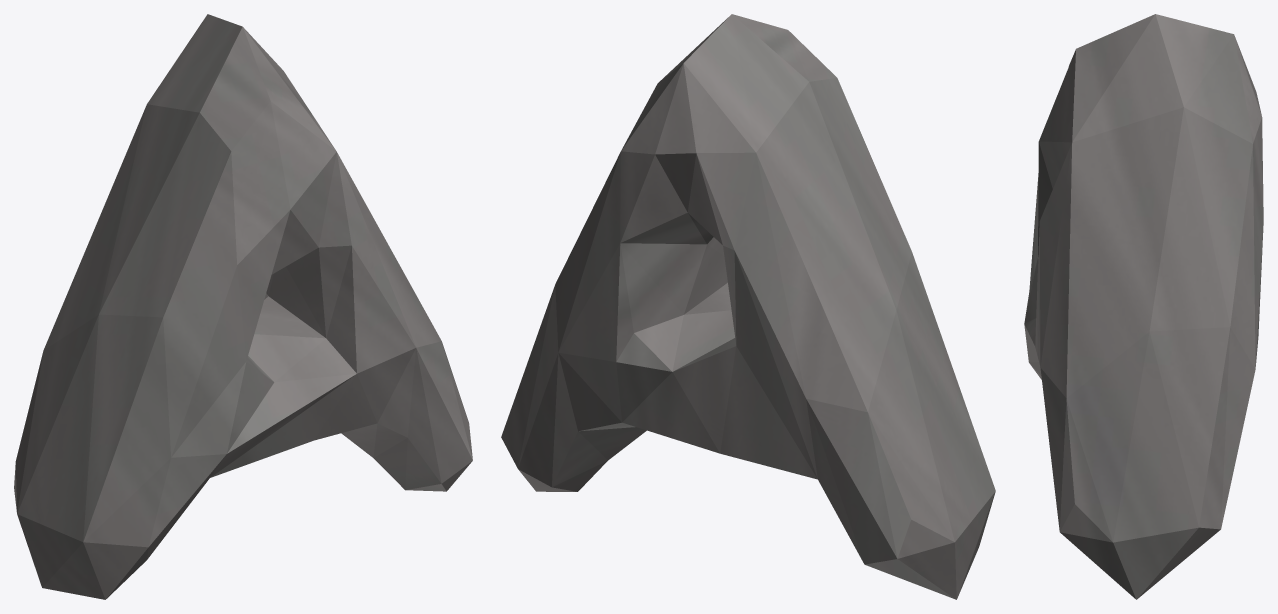
3 views of the same model, side by side, from view 1: azimuth 30°, elevation 25°; view 2: azimuth 150°, elevation 25°; view 3: azimuth 270°, elevation 25° (orthographic). The views are drawn at different scales.
Parts seen in each view (by area): view 1: A; view 2: A; view 3: A.
Part boxes in pixels (x1,y1,x2,y2): A: [14, 14, 472, 599]; A: [501, 14, 995, 599]; A: [1024, 14, 1263, 599].
Size of the model in its own units: 61.9 by 71.2 by 31.22.
Materials: 1 (1 with a texture image).
